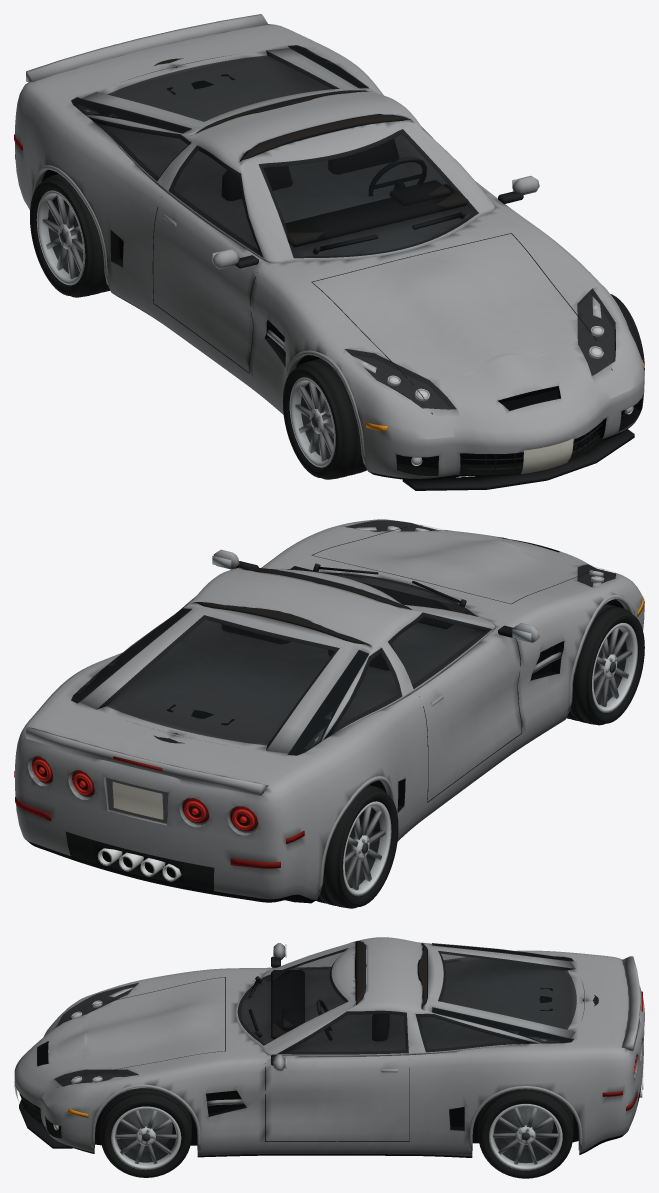
The model's file is chevrolet-corvette-z06-c6.glb.
3 renders of one model, top to bottom at view 1: azimuth 30°, elevation 25°; view 2: azimuth 150°, elevation 25°; view 3: azimuth 270°, elevation 25°, orthographic. The views are drawn at different scales.
Parts seen in each view (by area): view 1: Coachwork, Body, Wheel_FR, Wheel_RR, Plate, Headlights; view 2: Coachwork, Body, Wheel_RR, Wheel_FR, Taillights, Plate; view 3: Coachwork, Body, Wheel_RL, Wheel_FL.
Part boxes in pixels (<box>): Coachwork: <box>15,24,644,480</box>; Body: <box>14,14,644,490</box>; Wheel_FR: <box>282,358,366,479</box>; Wheel_RR: <box>30,173,109,297</box>; Plate: <box>521,438,573,473</box>; Headlights: <box>352,296,632,464</box>; Coachwork: <box>15,519,644,903</box>; Body: <box>14,520,644,895</box>; Wheel_RR: <box>316,784,398,908</box>; Wheel_FR: <box>566,603,644,725</box>; Taillights: <box>32,756,258,831</box>; Plate: <box>112,782,163,819</box>; Coachwork: <box>14,950,644,1157</box>; Body: <box>19,937,643,1150</box>; Wheel_RL: <box>478,1089,573,1178</box>; Wheel_FL: <box>100,1088,191,1177</box>.
Size of the model in its own units: 2.01 by 1.24 by 4.46.
